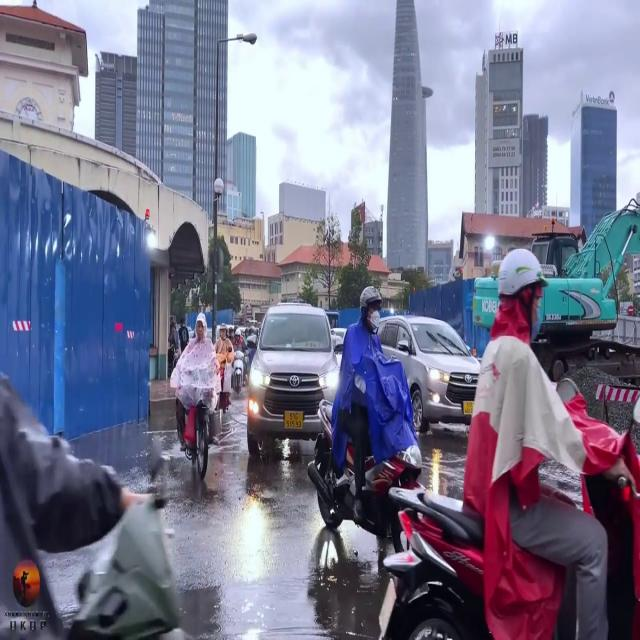bien_vang: (284, 405, 304, 434)
